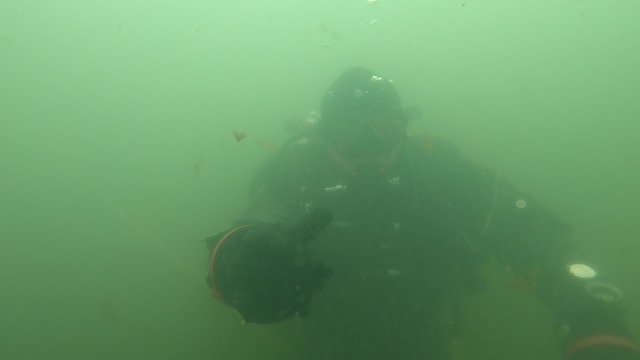Diver: (200, 62, 637, 357)
Hand: (202, 215, 335, 325), (546, 306, 636, 354)
Head: (309, 64, 419, 194)
